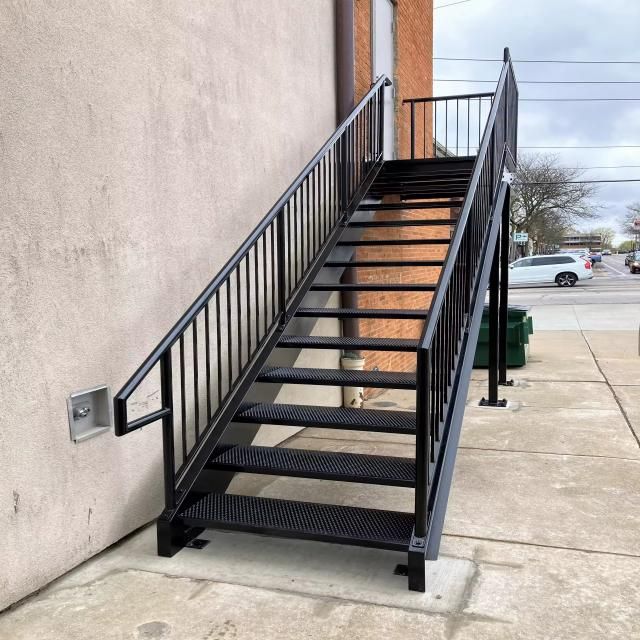Stairs: (107, 43, 544, 601)
